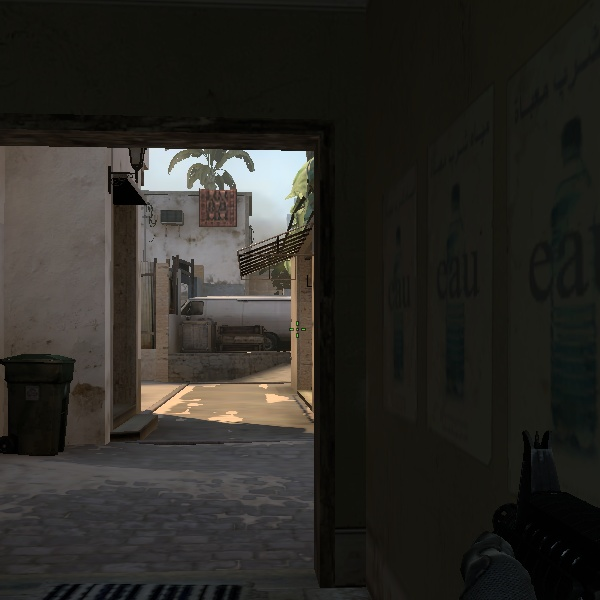t_body: (171, 252, 200, 312)
